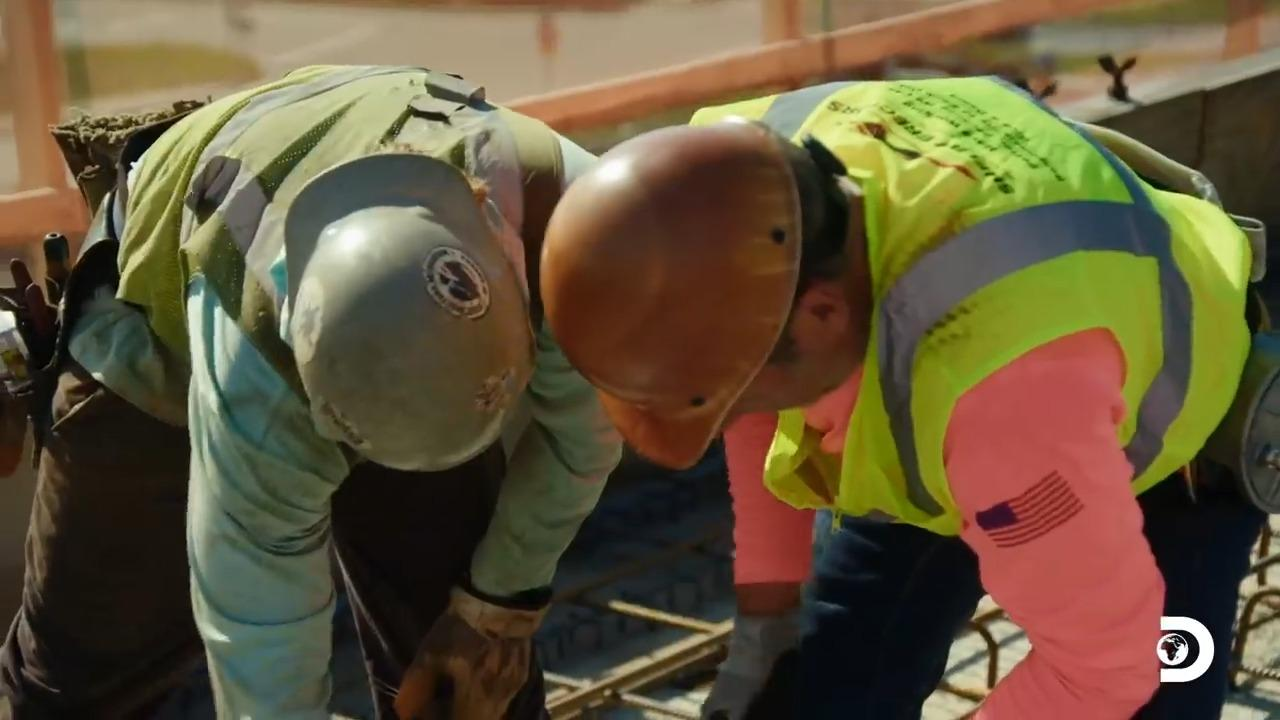Gloves: (404, 598, 542, 715), (698, 609, 784, 714)
Helmet: (537, 120, 804, 471), (276, 151, 538, 473)
Person: (538, 74, 1271, 718), (0, 62, 624, 719)
Safety Vest: (811, 123, 1211, 481), (140, 97, 563, 416)
